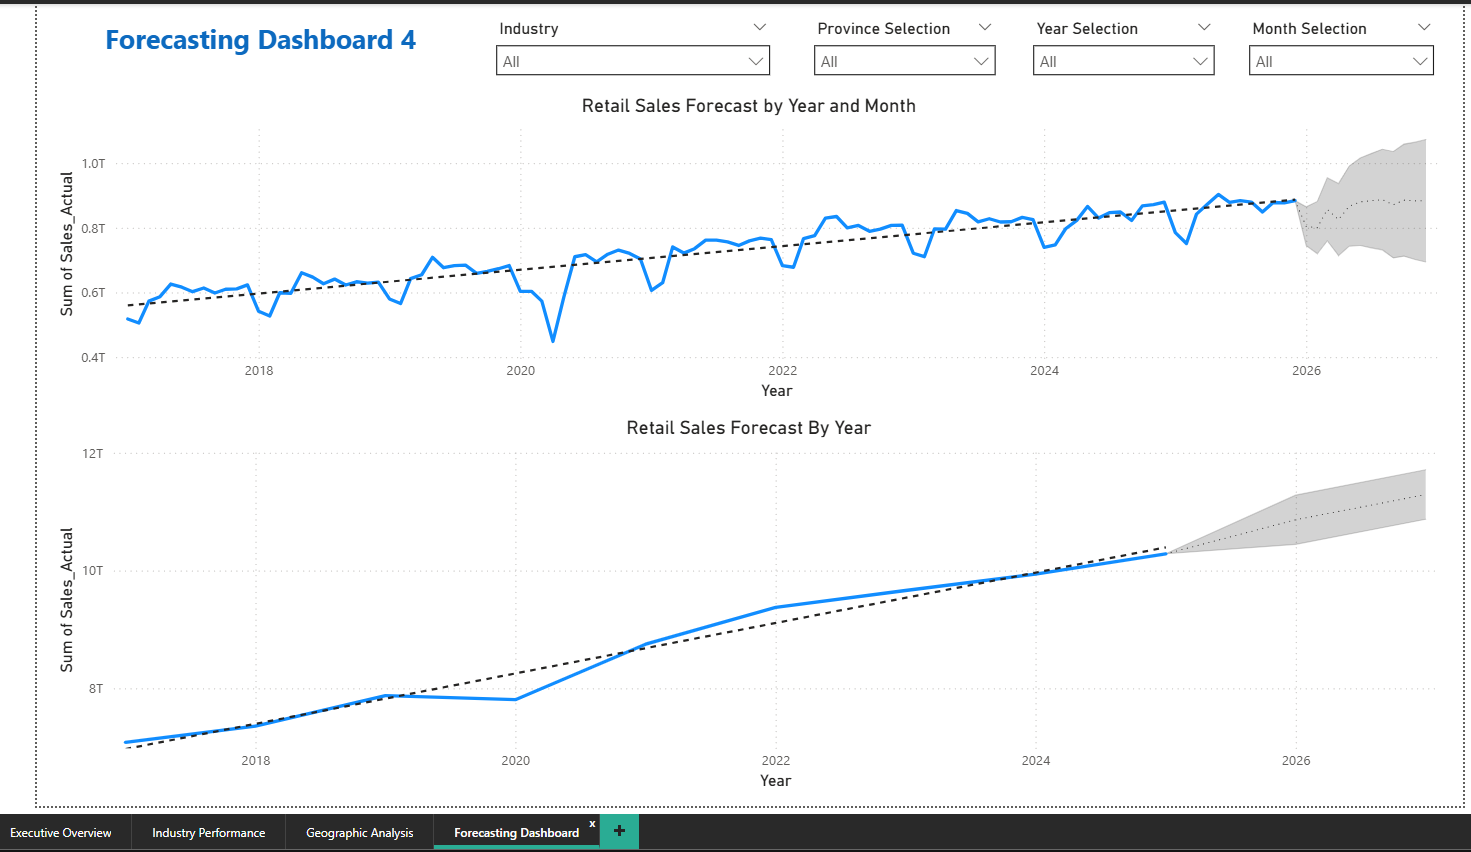

This screenshot's page, from the dashboard's own definition file:
{"tool":"powerbi","page":{"name":"Forecasting Dashboard","canvas":[1280,720],"ordinal":3},"visuals":[{"type":"slicer","fields":{"Values":["retail_sales_cleaned.Year"]},"box":[884.1,8.6,182.9,60.4],"z":0},{"type":"slicer","fields":{"Values":["retail_sales_cleaned.Month_Name"]},"box":[1078.2,8.6,186.3,60.4],"z":1000},{"type":"slicer","fields":{"Values":["retail_sales_cleaned.GEO"]},"box":[687.6,8.9,182.6,60.5],"z":2000},{"type":"slicer","fields":{"Values":["retail_sales_cleaned.Industry"]},"box":[401.9,8.9,265.9,60.5],"z":3000},{"type":"lineChart","title":"Sales Forecast by Year","fields":{"Category":["retail_sales_cleaned.Year"],"Y":["Sum(retail_sales_cleaned.Sales_Actual)"]},"box":[25.8,98.2,498.1,262],"z":4000},{"type":"lineChart","title":"Retail Sales Forecast by Year and Month","fields":{"Y":["Sum(retail_sales_cleaned.Sales_Actual)"],"Category":["retail_sales_cleaned.REF_DATE.Variation.Date Hierarchy.Year","retail_sales_cleaned.REF_DATE.Variation.Date Hierarchy.Month"]},"box":[13.5,80.8,1251.5,279.2],"z":6000},{"type":"lineChart","title":"Retail Sales Forecast By Year","fields":{"Y":["Sum(retail_sales_cleaned.Sales_Actual)"],"Category":["retail_sales_cleaned.REF_DATE.Variation.Date Hierarchy.Year","retail_sales_cleaned.REF_DATE.Variation.Date Hierarchy.Month"]},"box":[13.9,370.1,1251.2,340.3],"z":7000},{"type":"textbox","box":[13.5,9,374.4,50.3],"z":7001}]}

Visuals, with their boxes on the page's 1280x720 design canvas (x1, y1, x2, y2). These are canvas units, not pixel positions in the 1471x852 screenshot, which may show the page scaled, cropped or inside an application window:
slicer - retail_sales_cleaned.Year: bbox(884, 9, 1067, 69)
slicer - retail_sales_cleaned.Month_Name: bbox(1078, 9, 1264, 69)
slicer - retail_sales_cleaned.GEO: bbox(688, 9, 870, 69)
slicer - retail_sales_cleaned.Industry: bbox(402, 9, 668, 69)
"Sales Forecast by Year" lineChart: bbox(26, 98, 524, 360)
"Retail Sales Forecast by Year and Month" lineChart: bbox(14, 81, 1265, 360)
"Retail Sales Forecast By Year" lineChart: bbox(14, 370, 1265, 710)
textbox: bbox(14, 9, 388, 59)
